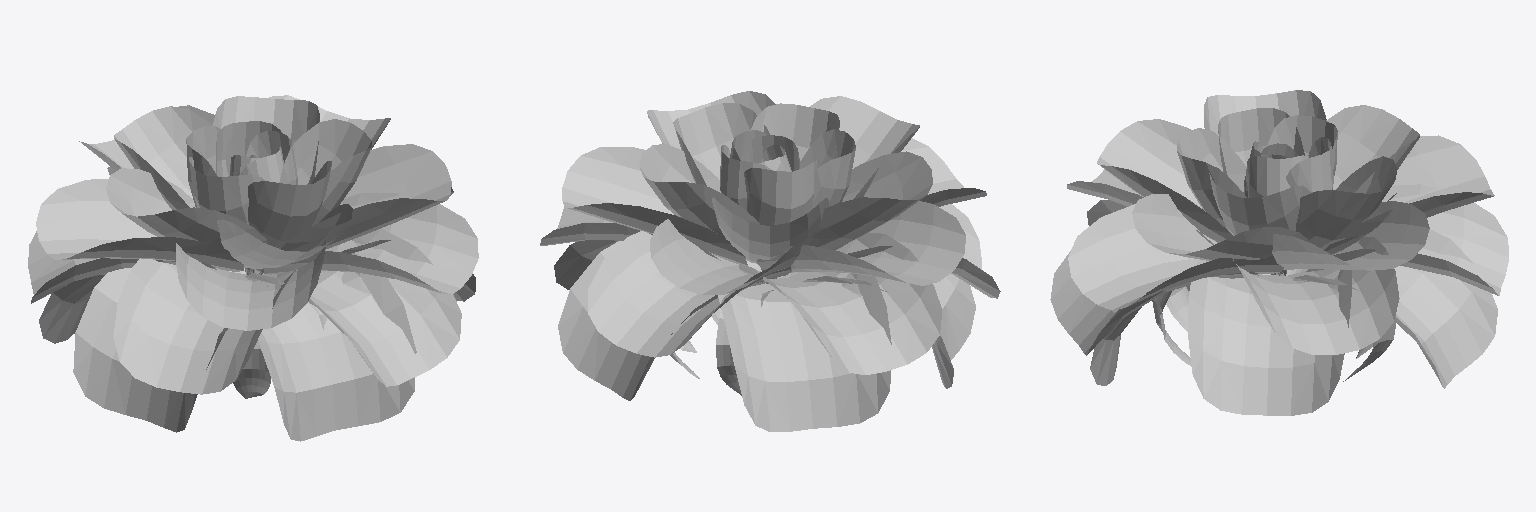
Rendered from FlowerTopModel_03_seq_0051.obj.
3 renders of one model, left to right at view 1: azimuth 30°, elevation 25°; view 2: azimuth 150°, elevation 25°; view 3: azimuth 270°, elevation 25°, orthographic.
Parts seen in each view (by area): view 1: FlowerTopModel_03; view 2: FlowerTopModel_03; view 3: FlowerTopModel_03.
Part boxes in pixels (x1,y1,x2,y2): FlowerTopModel_03: (28, 95, 478, 441); FlowerTopModel_03: (540, 91, 1000, 431); FlowerTopModel_03: (1050, 90, 1508, 415).
Bounding box in the file's own units: 931 × 514 × 935.